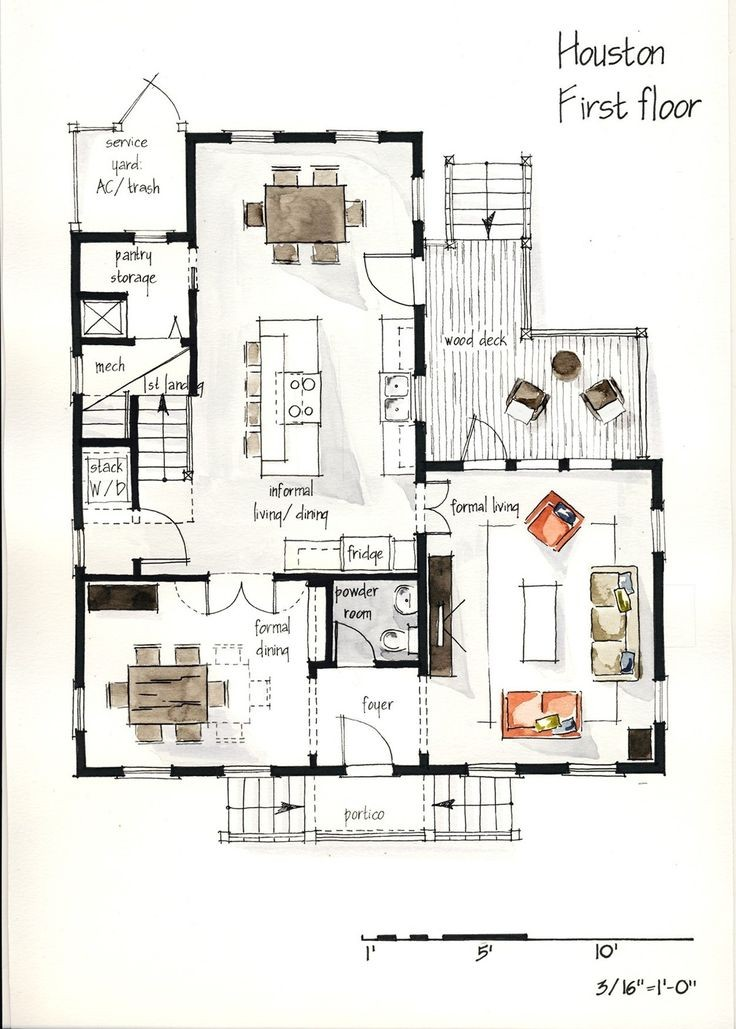door: (354, 244, 436, 308), (198, 567, 286, 625), (336, 699, 397, 778), (134, 506, 195, 566), (461, 417, 519, 469), (415, 480, 462, 544), (331, 616, 379, 674)
room: (170, 111, 428, 478), (56, 553, 429, 786), (415, 453, 672, 780), (47, 216, 200, 483)
wall: (62, 391, 92, 528), (645, 547, 673, 677), (64, 233, 92, 360), (175, 130, 204, 249), (178, 288, 208, 392), (394, 755, 472, 789), (125, 394, 147, 508), (69, 570, 89, 685), (269, 755, 345, 785), (408, 310, 431, 389), (165, 758, 223, 789), (520, 756, 573, 788), (69, 227, 136, 250), (409, 420, 428, 495), (75, 430, 128, 456), (67, 733, 94, 778), (408, 139, 436, 181), (644, 466, 669, 511), (383, 128, 431, 150), (619, 760, 667, 781), (609, 453, 665, 470), (647, 725, 672, 761), (73, 764, 125, 780), (409, 216, 426, 258), (425, 461, 469, 474)
window: (559, 755, 628, 786), (637, 674, 676, 727), (470, 750, 523, 789), (223, 749, 272, 788), (117, 752, 173, 785), (56, 525, 95, 572), (62, 678, 92, 725), (228, 124, 275, 153), (640, 511, 676, 545), (333, 122, 378, 145)
